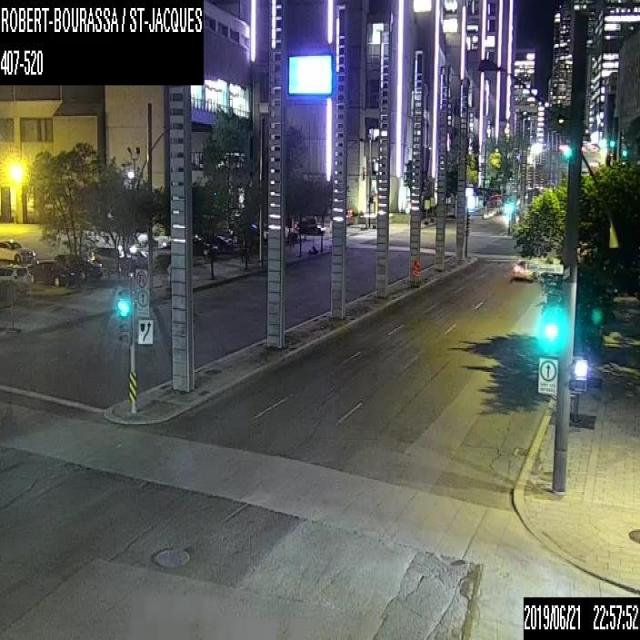construction: (410, 254, 421, 284)
vehicle: (54, 252, 102, 281), (27, 259, 78, 285), (89, 245, 136, 271), (0, 239, 34, 261), (0, 262, 29, 286), (296, 214, 324, 234), (510, 260, 538, 279), (193, 235, 216, 256), (213, 234, 232, 252)
